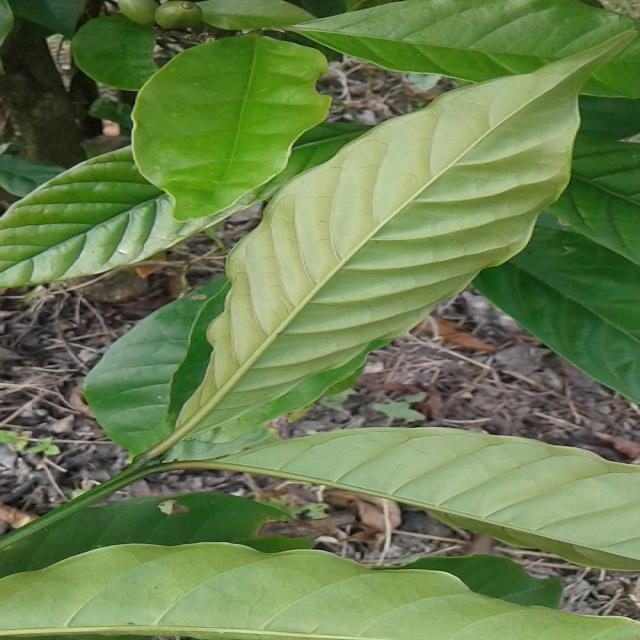Sanas: (163, 34, 635, 448)
